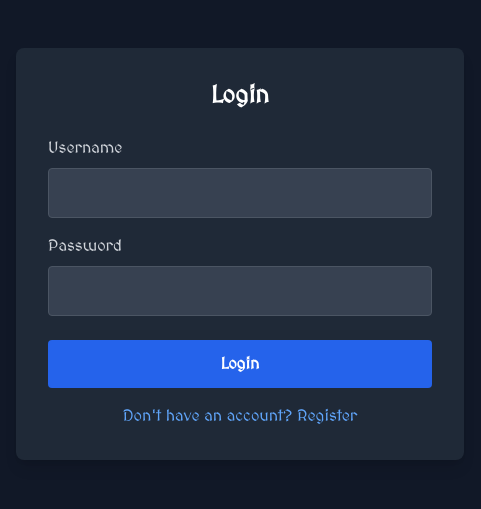
Test case: Login component › displays error message on login failure
Type "testuser" into the field labelled "Username" at (240, 193), box [48, 168, 432, 218]
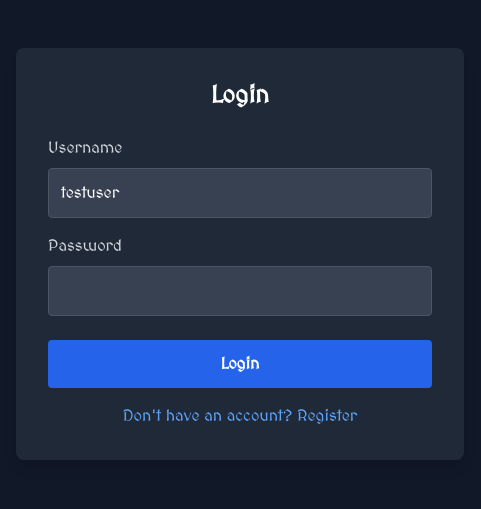
Type "wrongpassword" into the password field labelled "Password" at (240, 291), box [48, 266, 432, 316]
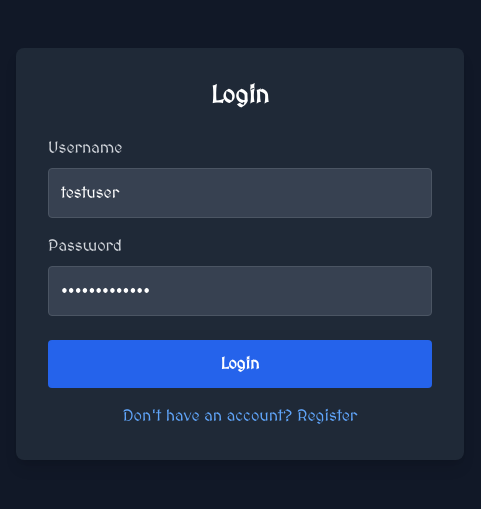
Click the button "Login" at (240, 364), box [48, 340, 432, 388]
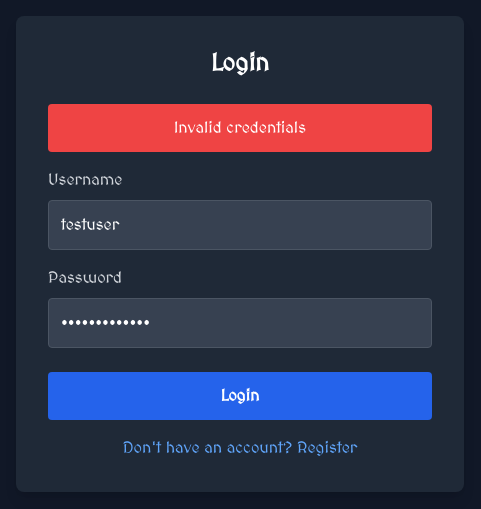
Result: the text "Invalid credentials" is shown at [48, 104, 432, 152]
